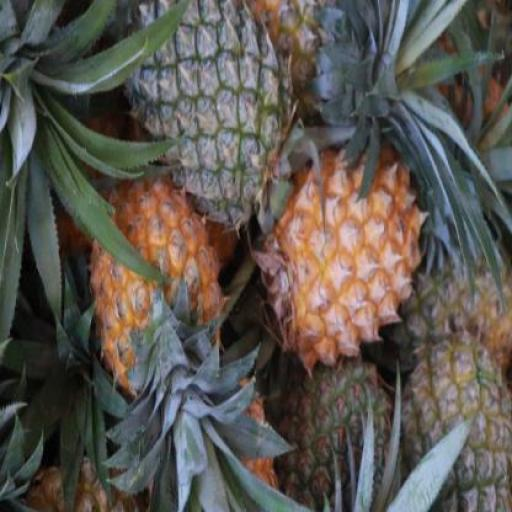------------------------------: (400, 336, 511, 511)
Pineapple - v8 v1: (266, 144, 431, 373), (82, 178, 222, 398)
